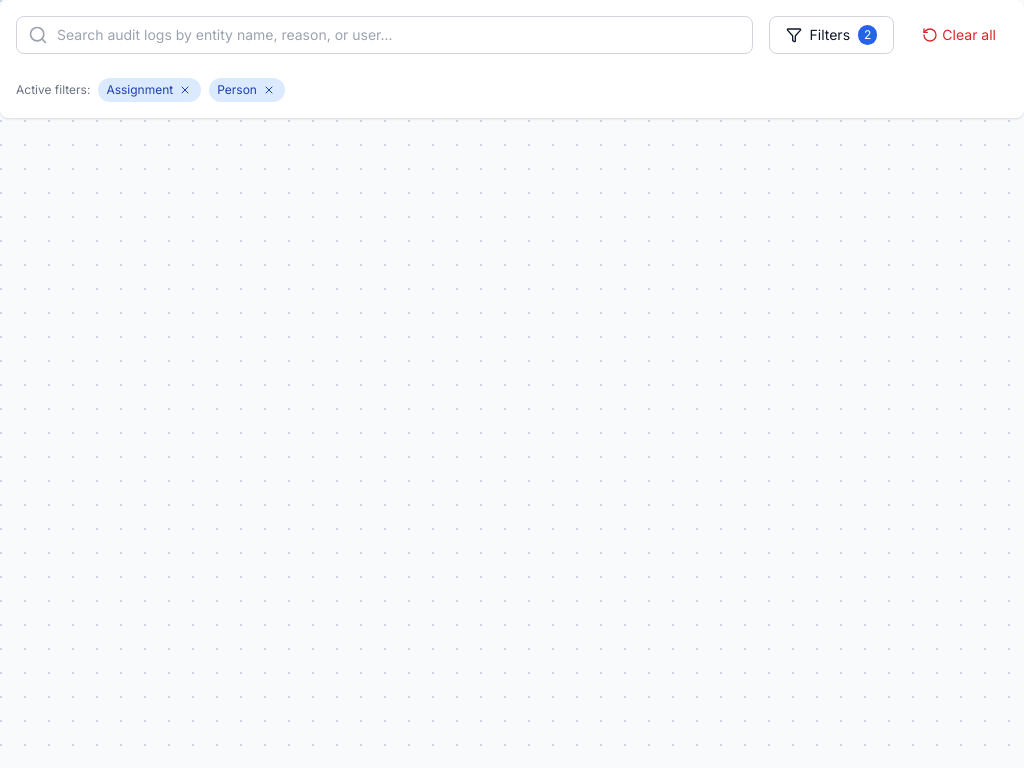
Test: AuditLogFilters › Multi-Select Filters › should show selected count badge
This screenshot has width=1024, height=768.
Note: Open advanced filters
Click the button with aria-label "Toggle advanced filters".
click(831, 35)  # box [768,16,894,54]
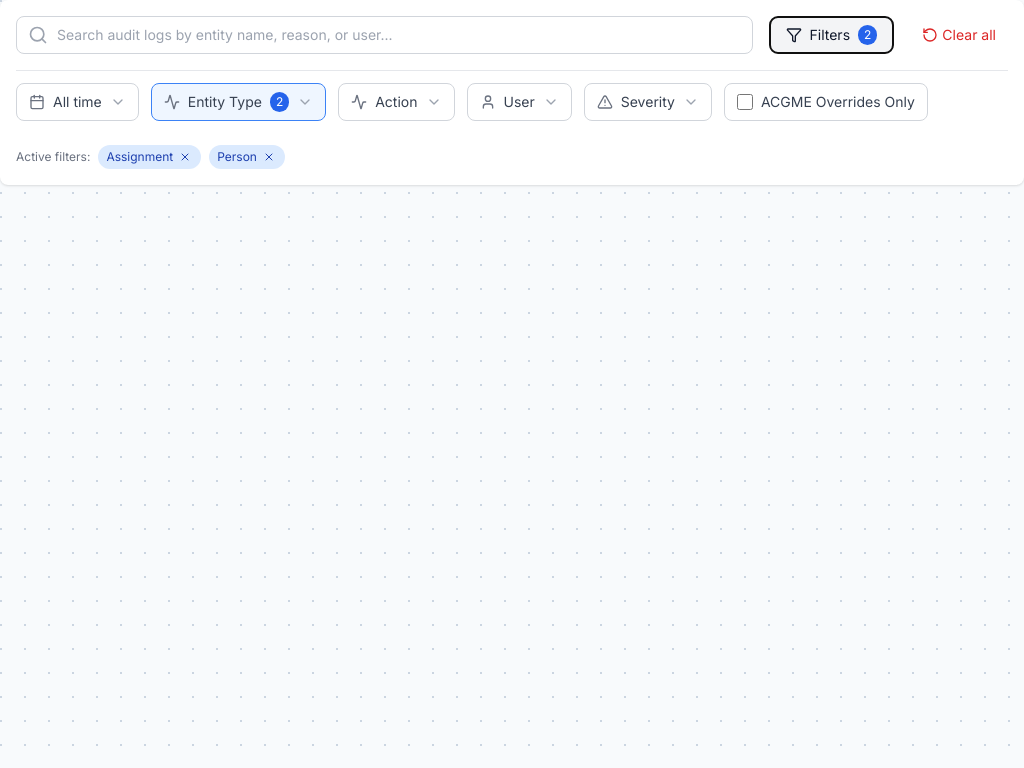
expect the text "2" in the row of "ACGME Overrides Only" is shown: met, box [276,94,283,109]
